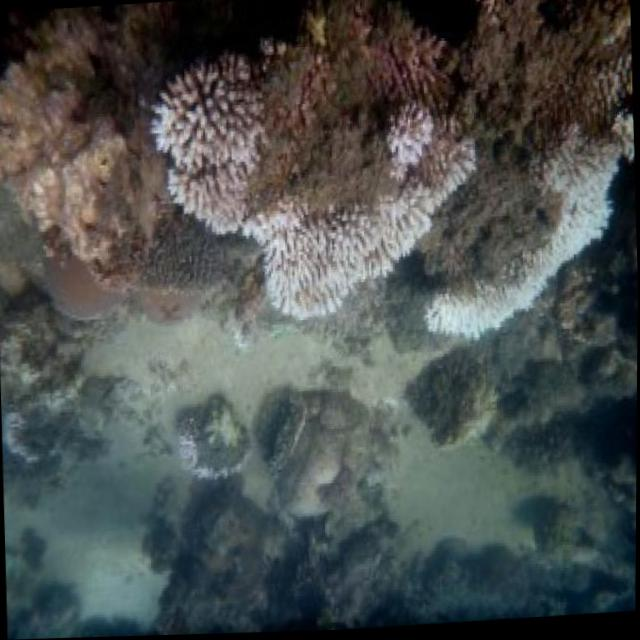Bleached Coral: (245, 87, 482, 339), (404, 130, 637, 371), (169, 37, 274, 245)
